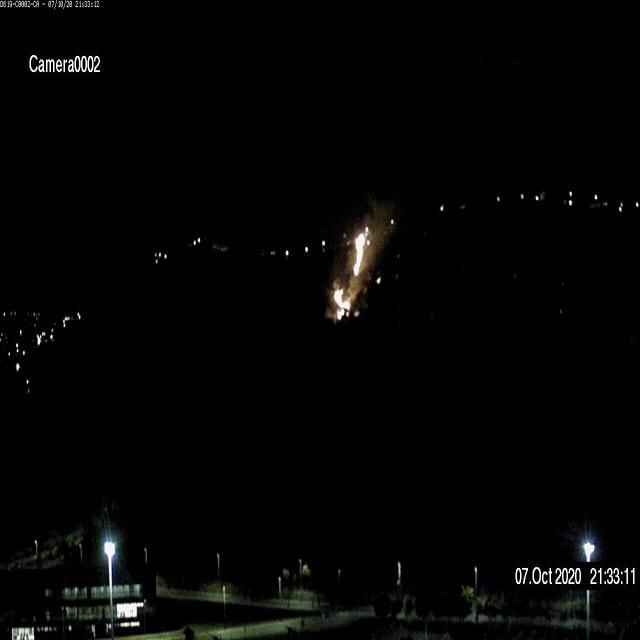Fire: (336, 217, 372, 319), (331, 284, 354, 322)
Smoke: (332, 201, 394, 323)
